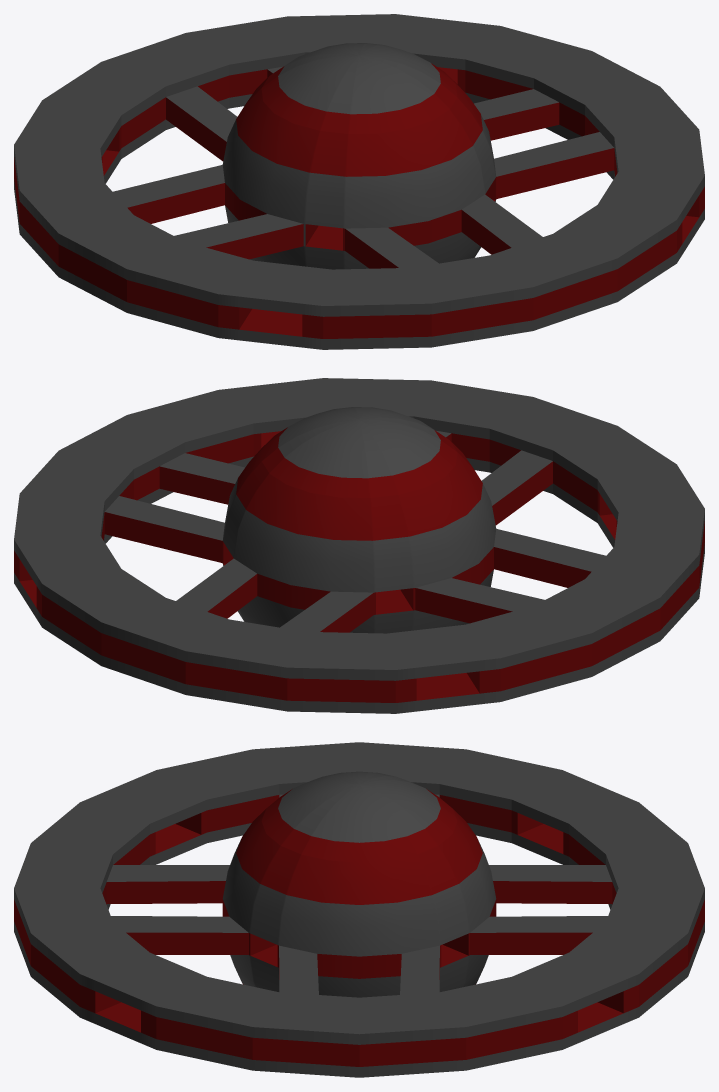
Rendered from coreship.fbx.
3 views of the same model, one above another, from view 1: azimuth 30°, elevation 25°; view 2: azimuth 150°, elevation 25°; view 3: azimuth 270°, elevation 25° (orthographic).
Parts seen in each view (by area): view 1: coreship; view 2: coreship; view 3: coreship.
Part boxes in pixels (box(x1,y1,x2,y2)): coreship: box(14, 14, 704, 349); coreship: box(14, 378, 704, 713); coreship: box(14, 742, 704, 1077).
Bounding box in the file's own units: 2000 × 802 × 2000.
